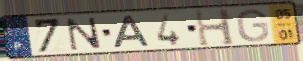4: (154, 11, 184, 47)
7: (33, 17, 63, 55)
A: (112, 14, 153, 50)
G: (235, 8, 271, 43)
H: (193, 7, 238, 48)
N: (64, 16, 105, 52)
